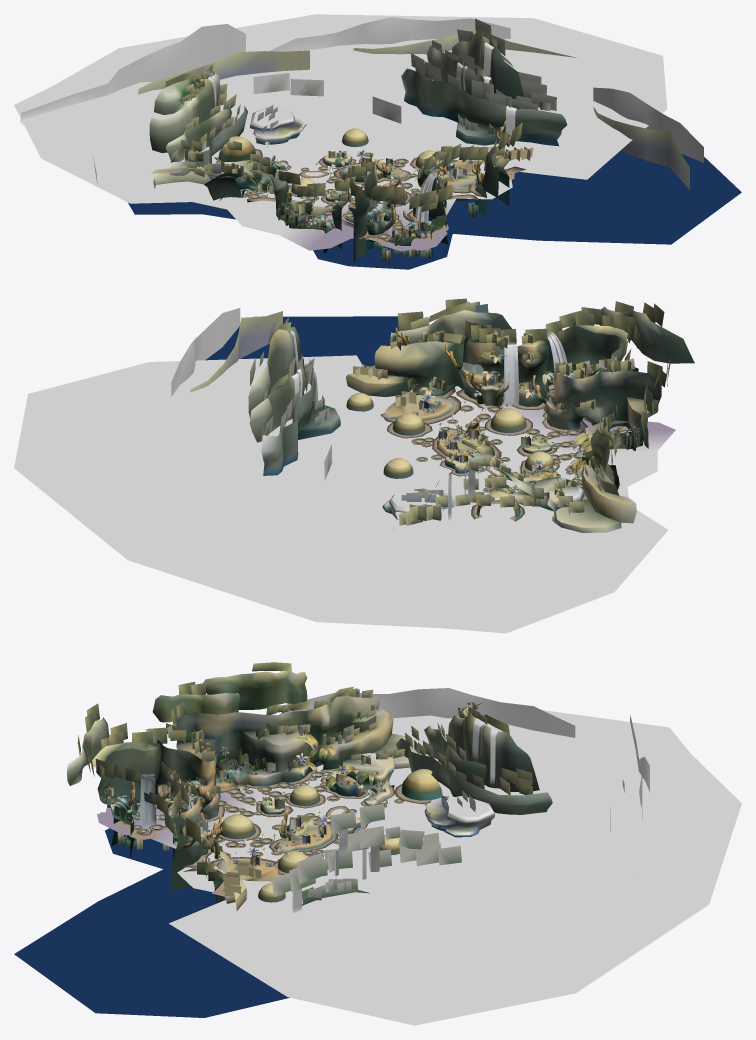
Rendered from DJAct2.gltf.
3 views of the same model, one above another, from view 1: azimuth 30°, elevation 25°; view 2: azimuth 150°, elevation 25°; view 3: azimuth 270°, elevation 25° (orthographic). The views are drawn at different scales.
Parts seen in each view (by area): view 1: stg021_w_Mesh_0, stg021_o_Mesh_45, stg021_o_Mesh_16, stg021_p_Mesh_245, stg021_p_Mesh_171, stg021_ripple_k_Mesh_3, stg021_p_Mesh_122, stg021_falls_w_Mesh_6, stg021_o_Mesh_11, stg021_p_Mesh_138, stg021_p_Mesh_11, stg021_o_Mesh_27 (+8 smaller); view 2: stg021_w_Mesh_0, stg021_o_Mesh_16, stg021_p_Mesh_171, stg021_o_Mesh_45, stg021_p_Mesh_245, stg021_ripple_k_Mesh_3, stg021_falls_w_Mesh_6, stg021_o_Mesh_11, stg021_p_Mesh_11, stg021_o_Mesh_4, stg021_p_Mesh_138, stg021_p_Mesh_247 (+4 smaller); view 3: stg021_w_Mesh_0, stg021_o_Mesh_16, stg021_o_Mesh_45, stg021_p_Mesh_171, stg021_p_Mesh_245, stg021_ripple_k_Mesh_3, stg021_falls_w_Mesh_6, stg021_o_Mesh_11, stg021_p_Mesh_11, stg021_p_Mesh_247, stg021_o_Mesh_4, stg021_p_Mesh_138 (+6 smaller).
Part boxes in pixels (x1,y1,x2,y2): stg021_w_Mesh_0: (14, 14, 667, 251); stg021_o_Mesh_45: (128, 76, 741, 269); stg021_o_Mesh_16: (149, 30, 567, 262); stg021_p_Mesh_245: (20, 17, 703, 190); stg021_p_Mesh_171: (170, 18, 556, 228); stg021_ripple_k_Mesh_3: (214, 148, 525, 244); stg021_p_Mesh_122: (253, 72, 401, 123); stg021_falls_w_Mesh_6: (208, 42, 516, 222); stg021_o_Mesh_11: (218, 132, 503, 200); stg021_p_Mesh_138: (201, 67, 550, 236); stg021_p_Mesh_11: (243, 158, 476, 239); stg021_o_Mesh_27: (374, 121, 510, 238); stg021_w_Mesh_0: (14, 355, 675, 633); stg021_o_Mesh_16: (248, 306, 694, 532); stg021_p_Mesh_171: (250, 298, 670, 525); stg021_o_Mesh_45: (205, 316, 657, 527); stg021_p_Mesh_245: (171, 308, 282, 396); stg021_ripple_k_Mesh_3: (381, 385, 592, 521); stg021_falls_w_Mesh_6: (290, 331, 569, 519); stg021_o_Mesh_11: (346, 397, 554, 518); stg021_p_Mesh_11: (420, 354, 616, 484); stg021_o_Mesh_4: (350, 392, 550, 498); stg021_p_Mesh_138: (301, 356, 626, 501); stg021_p_Mesh_247: (414, 389, 585, 499); stg021_w_Mesh_0: (97, 710, 741, 1025); stg021_o_Mesh_16: (67, 671, 552, 910); stg021_o_Mesh_45: (14, 702, 489, 1017); stg021_p_Mesh_171: (77, 681, 532, 901); stg021_p_Mesh_245: (279, 688, 649, 831); stg021_ripple_k_Mesh_3: (113, 767, 448, 903); stg021_falls_w_Mesh_6: (139, 718, 497, 912); stg021_o_Mesh_11: (219, 776, 442, 902); stg021_p_Mesh_11: (110, 733, 373, 873); stg021_p_Mesh_247: (133, 771, 402, 857); stg021_o_Mesh_4: (224, 769, 436, 892); stg021_p_Mesh_138: (103, 740, 419, 890).
Size of the model in its own units: 856 by 177 by 824.
